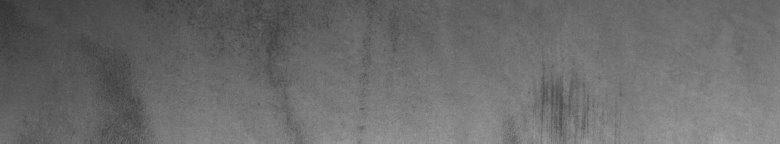ka: (537, 64, 589, 136)
